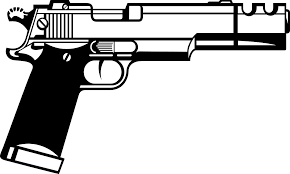gun: (1, 1, 290, 165)
